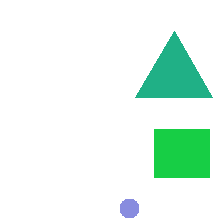circle: (120, 199, 138, 217)
rectangle: (154, 129, 209, 177)
triangle: (135, 31, 212, 97)
